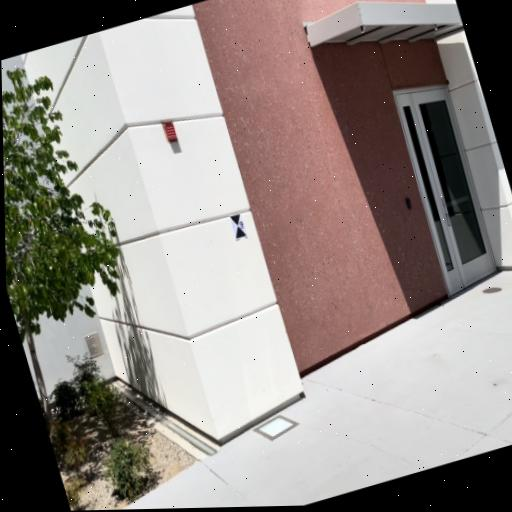target9: (229, 213, 247, 238)
